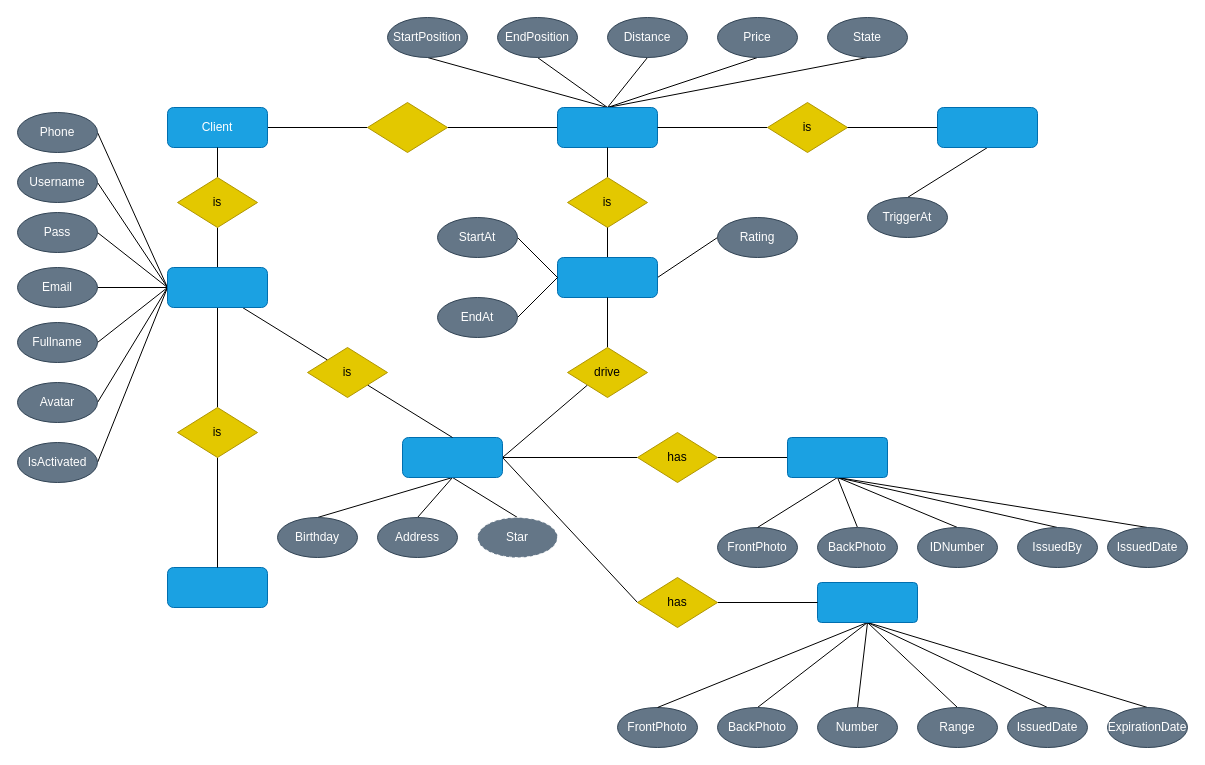
This 1205x765 diagram has some shape labels left out. Each missing label, with the centre of its shape:
"Admin" goes at (217,587).
"Appointments" goes at (987,127).
"Booking" goes at (607,277).
"create" goes at (407,127).
"Driver" goes at (452,457).
"IdentityCard" goes at (837,457).
"License" goes at (867,602).
"Request" goes at (607,127).
"User" goes at (217,287).
